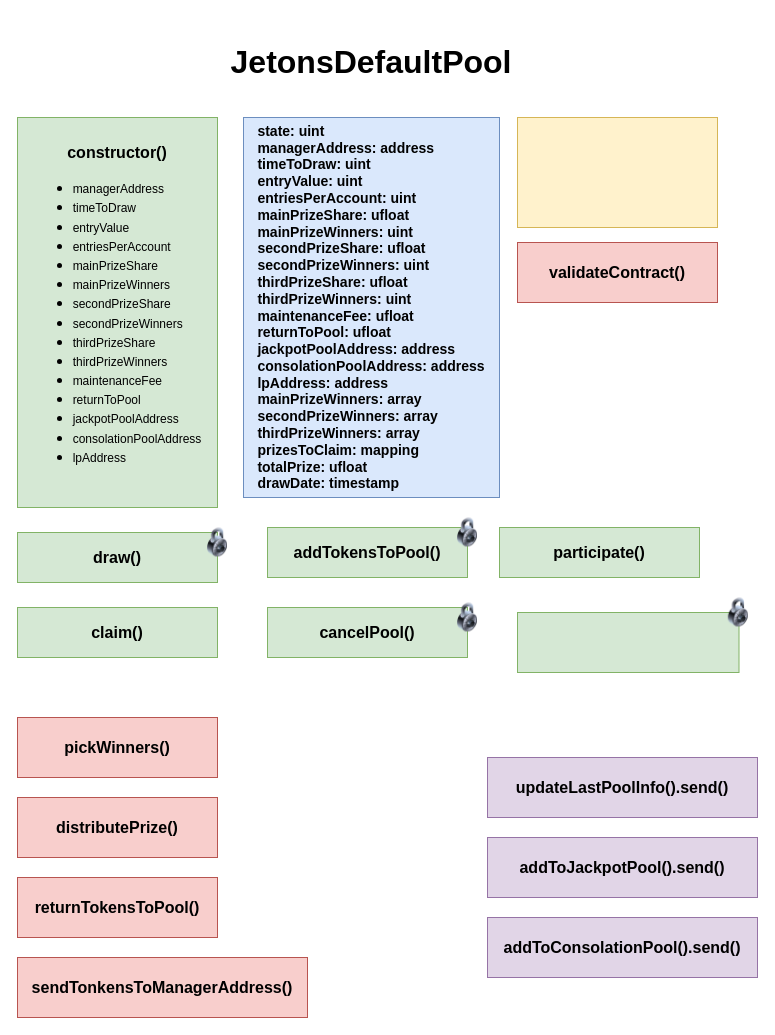
This 775x1035 diagram has some shape labels left out. Each missing label, with the box of its shape:
getTokenBalance(): (516, 612, 739, 672)
modifiers() require manager validate claim address: (516, 116, 718, 228)
